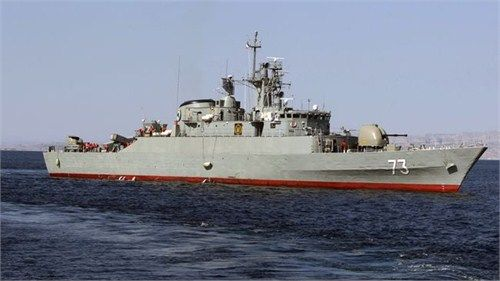warship: (43, 38, 490, 196)
